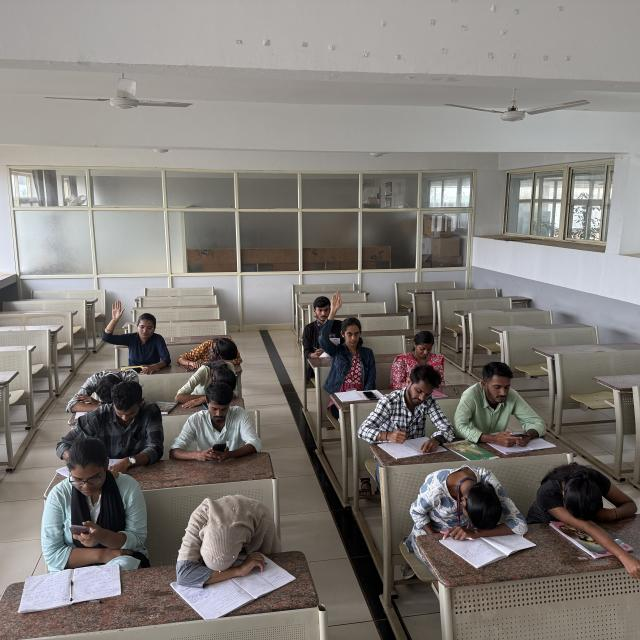Hand Rising: (317, 290, 374, 383), (100, 295, 172, 365)
Sleeping: (170, 484, 281, 575), (418, 462, 532, 536), (533, 460, 640, 530), (60, 363, 147, 422), (170, 358, 244, 409), (176, 330, 246, 370)
Using Phone: (41, 440, 146, 567), (453, 363, 546, 451), (171, 386, 260, 470)
Writing: (361, 361, 457, 451), (302, 294, 346, 360)
